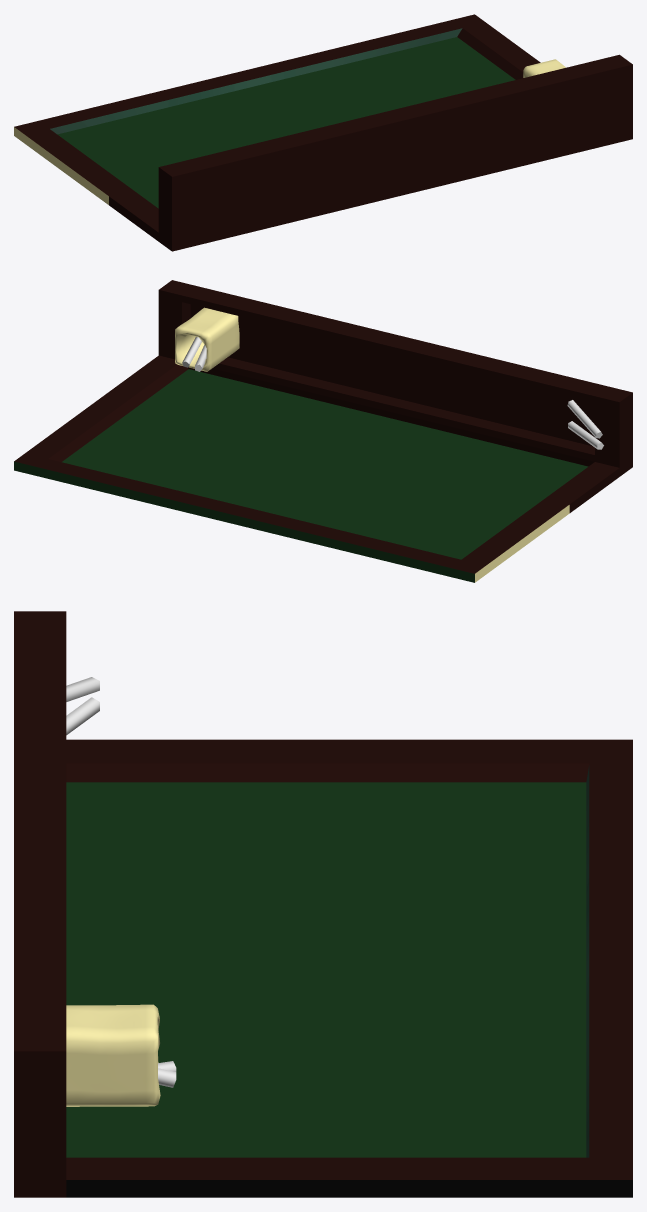
Rendered from chalk board.FBX.
3 views of the same model, one above another, from view 1: azimuth 30°, elevation 25°; view 2: azimuth 150°, elevation 25°; view 3: azimuth 270°, elevation 25° (orthographic). The views are drawn at different scales.
Visible parts, largest first — view 1: Box001, Box003; view 2: Box001, Box003; view 3: Box001, Box003.
Part boxes in pixels (x1,y1,x2,y2): Box001: (14,14,632,251); Box003: (523,59,565,77); Box001: (14,280,632,582); Box003: (175,307,239,371); Box001: (14,611,632,1197); Box003: (66,1004,160,1106).
Bounding box in the file's own units: 39.79 × 6.16 × 23.65.
5 materials, 1 textured.
